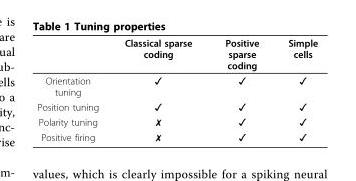table: (36, 36, 317, 142)
table column: (111, 36, 207, 142), (36, 36, 111, 142), (207, 36, 272, 142), (272, 36, 317, 142)
table column header: (36, 36, 317, 72)
table row: (36, 36, 317, 72), (36, 72, 317, 99), (36, 99, 317, 114), (36, 114, 317, 129), (36, 129, 317, 142)
